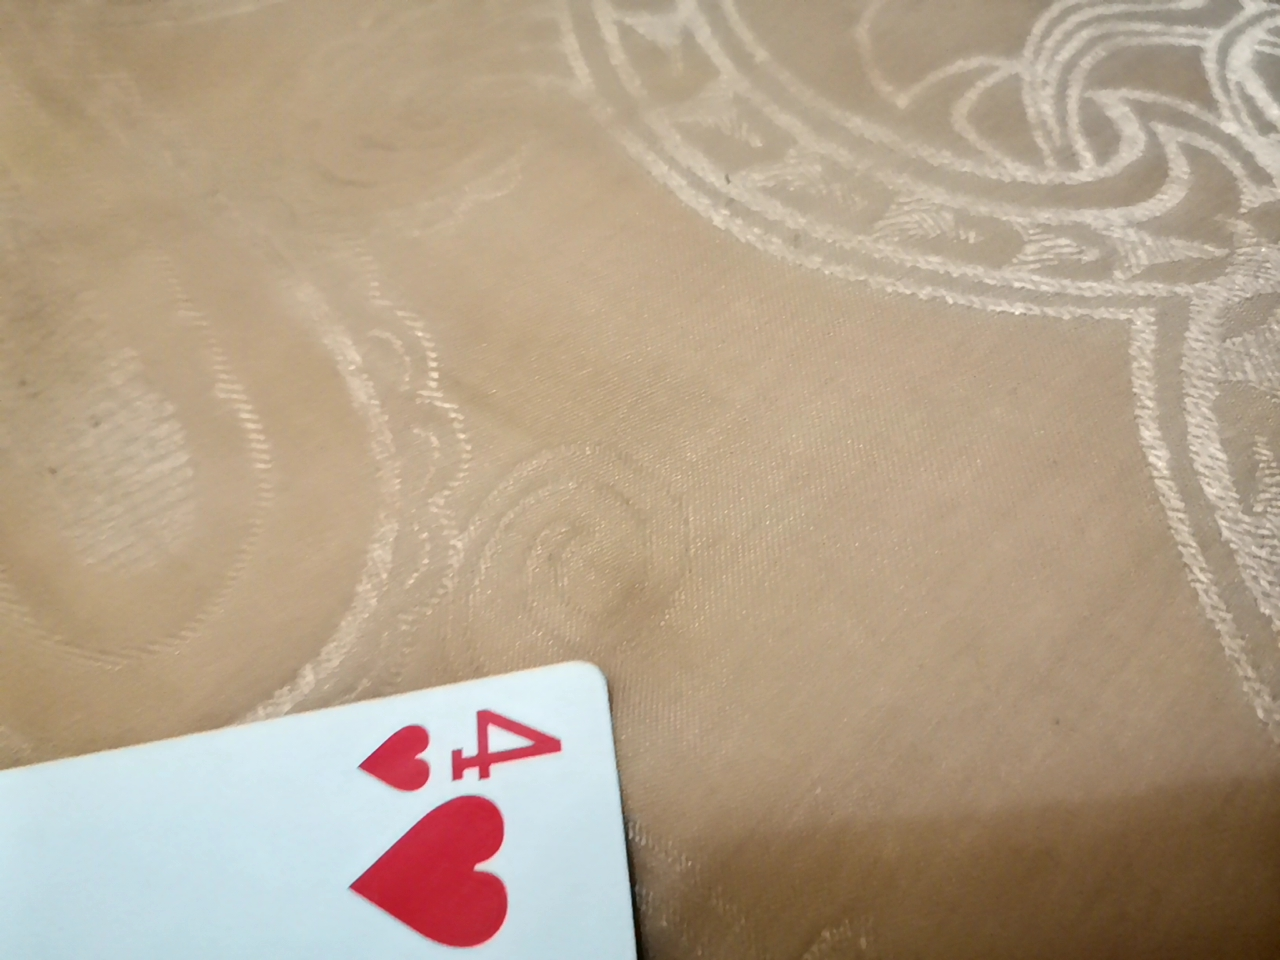hx 4: (14, 694, 686, 959)
